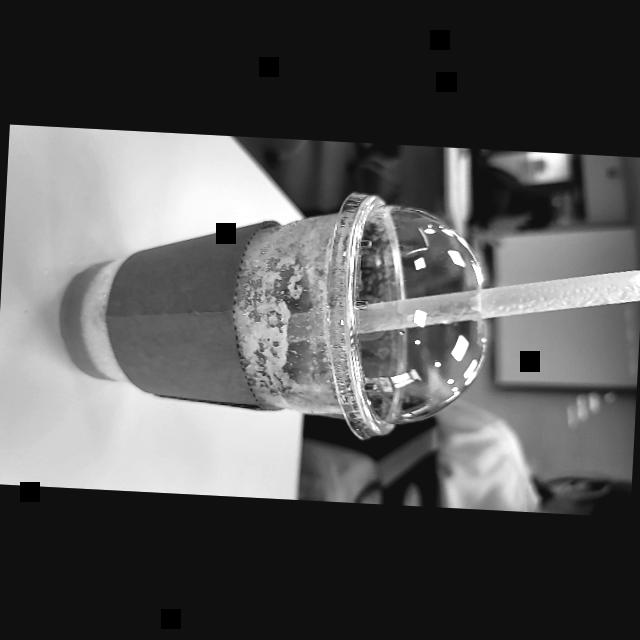plastic_cup: (42, 178, 504, 448)
plastic_cup_lid: (311, 188, 497, 449)
straw: (286, 272, 638, 343)
